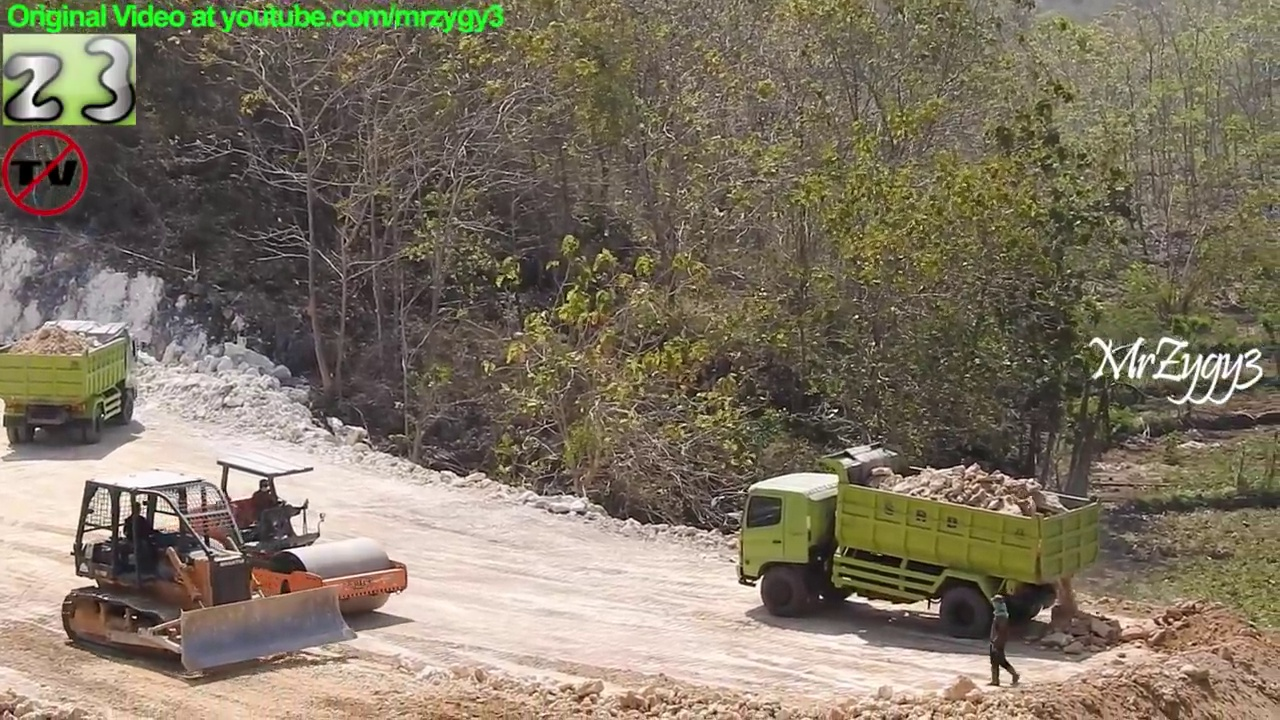bulldozer: (57, 471, 361, 678)
compactor: (165, 451, 415, 627)
truck: (726, 443, 1113, 643), (1, 314, 150, 451)
